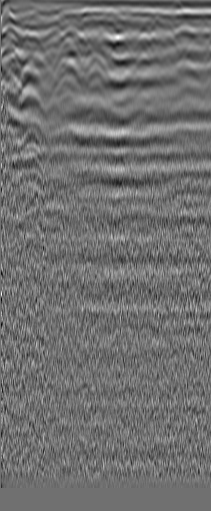오수: (21, 29, 41, 49)
우수: (175, 21, 195, 41)
